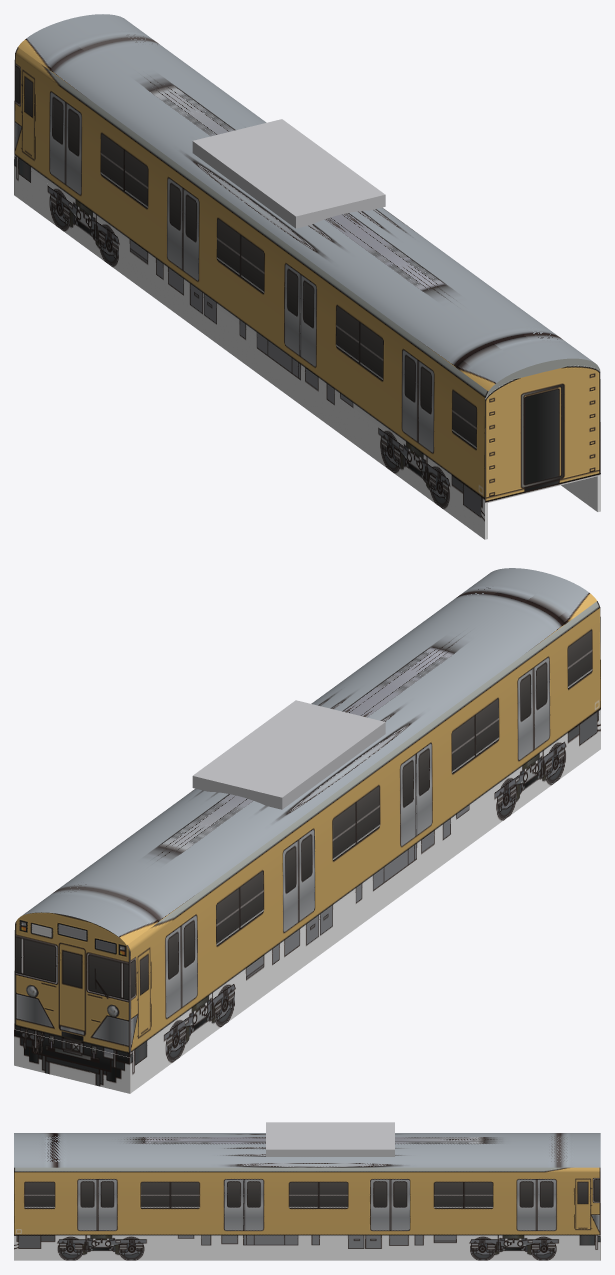
File: car8.glb
3 renders of one model, top to bottom at view 1: azimuth 30°, elevation 25°; view 2: azimuth 150°, elevation 25°; view 3: azimuth 270°, elevation 25°, orthographic. The views are drawn at different scales.
Visible parts, largest first — view 1: car8.glb; view 2: car8.glb; view 3: car8.glb.
Part boxes in pixels (x1,y1,x2,y2): car8.glb: [14, 14, 600, 539]; car8.glb: [14, 568, 600, 1093]; car8.glb: [14, 1122, 600, 1260].
Size of the model in its own units: 2.85 by 4.03 by 20.01.
Materials: 7 (5 with a texture image).
